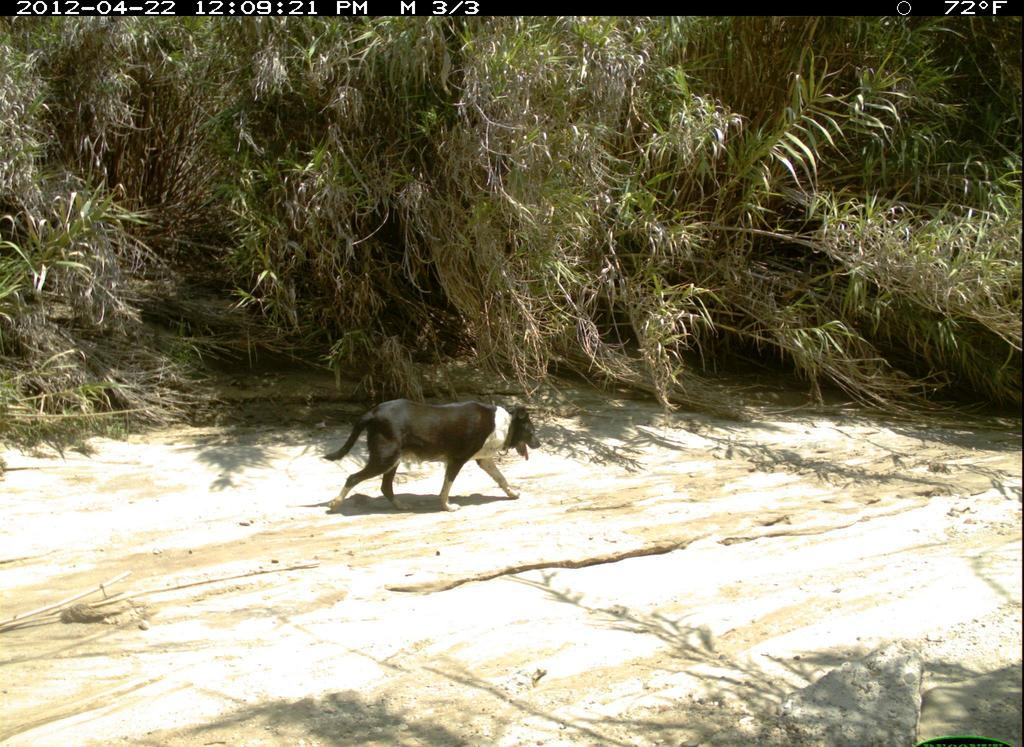dog: (322, 388, 538, 514)
